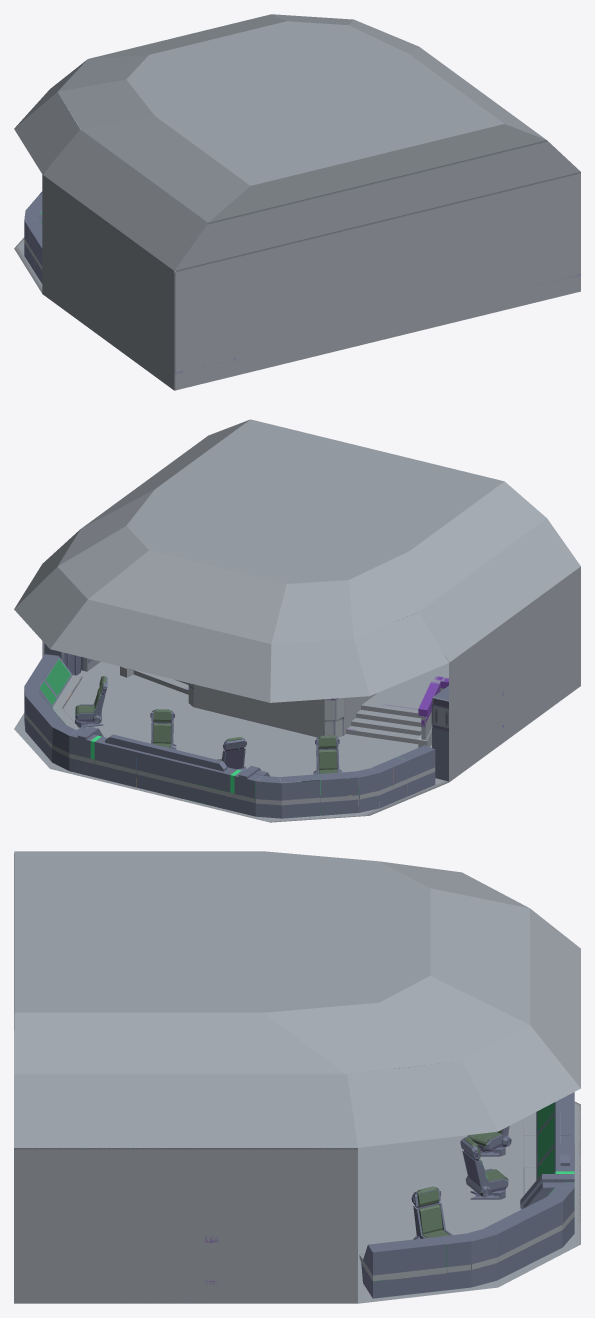
The model's file is Cockpit.fbx.
3 views of the same model, one above another, from view 1: azimuth 30°, elevation 25°; view 2: azimuth 150°, elevation 25°; view 3: azimuth 270°, elevation 25° (orthographic). The views are drawn at different scales.
Parts seen in each view (by area): view 1: cuboid, cuboid_28, cuboid_3, platform_1; view 2: cuboid_28, cuboid, cuboid_29, cuboid_3, cuboid_2, platform, platform_1, stairs, tube; view 3: cuboid_28, cuboid, cuboid_29, cuboid_3, cuboid_2, platform_1, cuboid_24.
Part boxes in pixels (x1=…): cuboid: x1=14, y1=37, x2=580, y2=390; cuboid_28: x1=58, y1=14, x2=546, y2=222; cuboid_3: x1=24, y1=191, x2=42, y2=283; platform_1: x1=96, y1=274, x2=580, y2=390; cuboid_28: x1=57, y1=419, x2=546, y2=644; cuboid: x1=14, y1=518, x2=580, y2=782; cuboid_29: x1=14, y1=661, x2=448, y2=822; cuboid_3: x1=24, y1=654, x2=435, y2=818; cuboid_2: x1=94, y1=734, x2=236, y2=810; platform: x1=188, y1=683, x2=375, y2=737; platform_1: x1=120, y1=623, x2=580, y2=747; stairs: x1=346, y1=710, x2=421, y2=744; tube: x1=431, y1=686, x2=448, y2=781; cuboid_28: x1=14, y1=851, x2=529, y2=1074; cuboid: x1=14, y1=908, x2=580, y2=1303; cuboid_29: x1=348, y1=1069, x2=580, y2=1303; cuboid_3: x1=359, y1=1067, x2=574, y2=1298; cuboid_2: x1=523, y1=1092, x2=574, y2=1194; platform_1: x1=14, y1=1234, x2=217, y2=1303; cuboid_24: x1=419, y1=1204, x2=442, y2=1234.
Size of the model in its own units: 300 by 138 by 278.
1 material, 1 textured.
